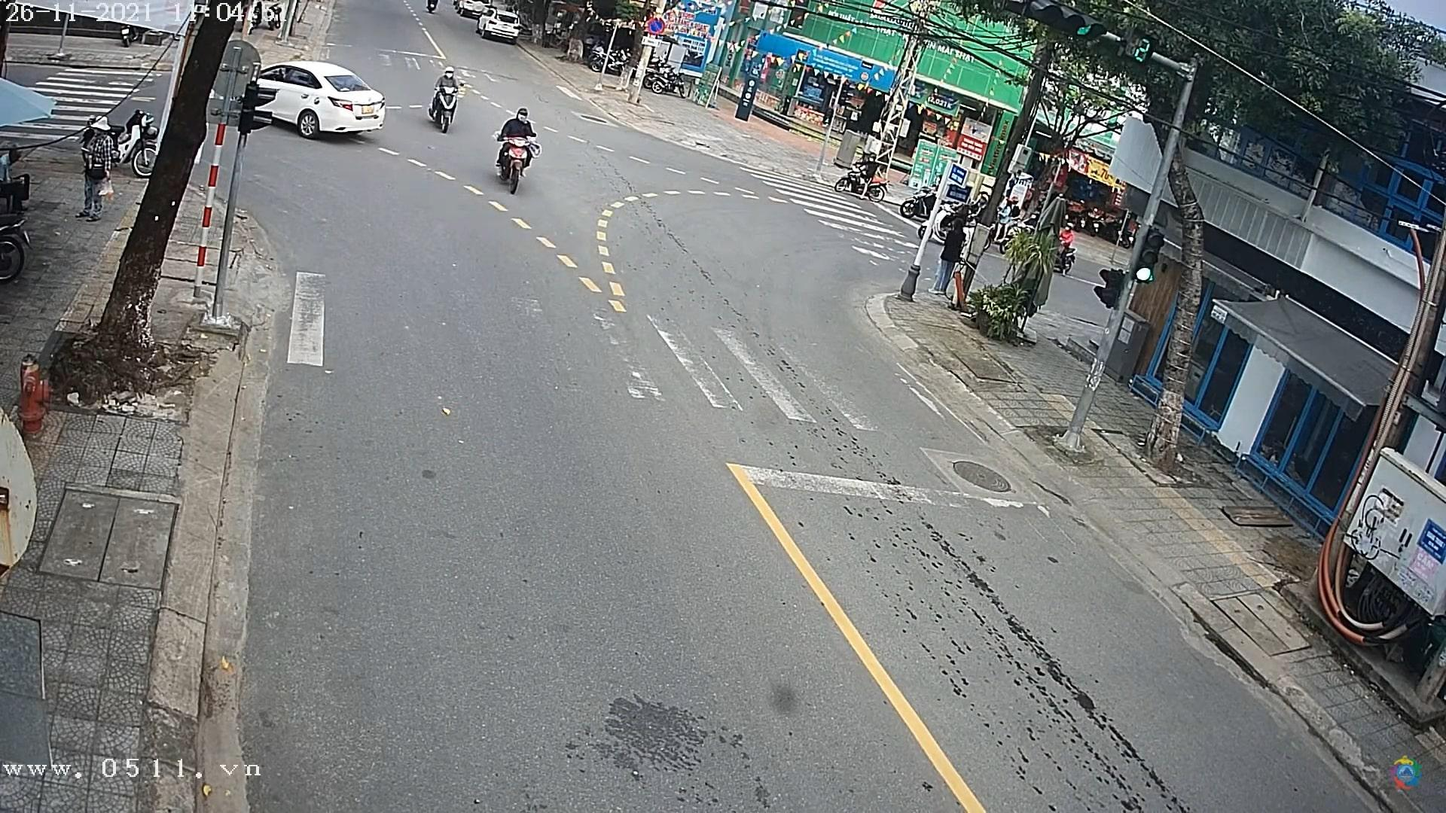car: (249, 61, 388, 140)
motorbike: (493, 137, 537, 193), (429, 81, 462, 137)
